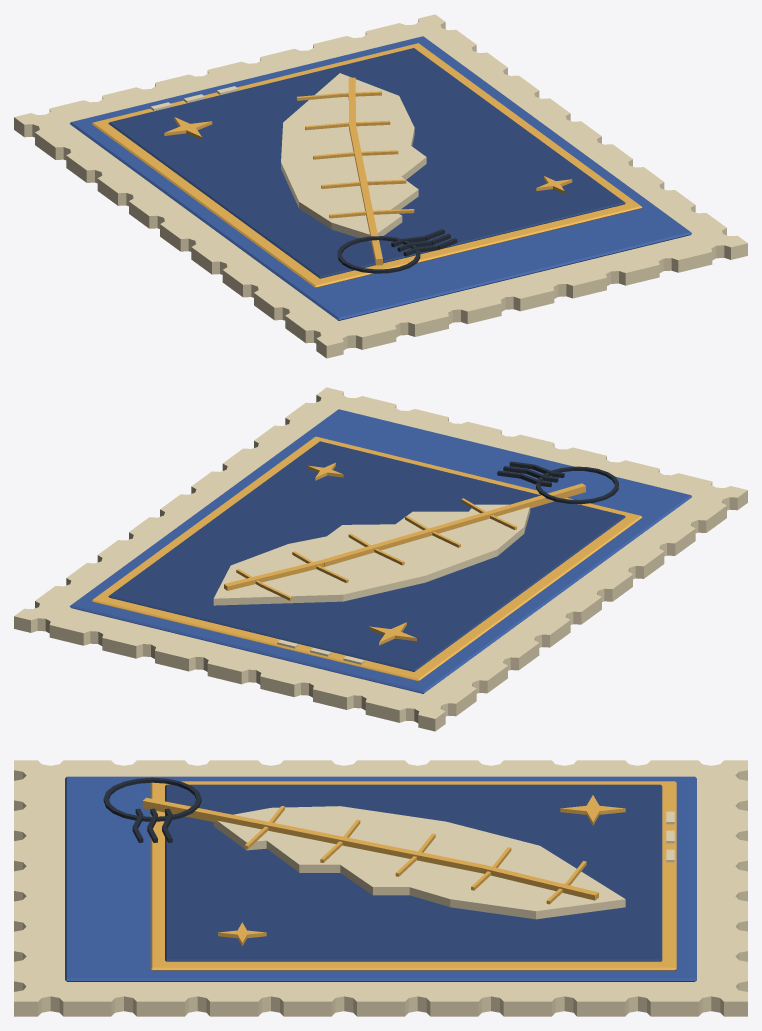
Rendered from magic_feather_stamp.glb.
3 views of the same model, one above another, from view 1: azimuth 30°, elevation 25°; view 2: azimuth 150°, elevation 25°; view 3: azimuth 270°, elevation 25° (orthographic). The views are drawn at different scales.
Parts seen in each view (by area): view 1: magic_feather_stamp__navy_feather_field, magic_feather_stamp__perforated_paper, magic_feather_stamp__blue_print, magic_feather_stamp__feather_relief, magic_feather_stamp__gold_inner_frame, magic_feather_stamp, magic_feather_stamp__postmark_circle; view 2: magic_feather_stamp__navy_feather_field, magic_feather_stamp__perforated_paper, magic_feather_stamp__blue_print, magic_feather_stamp__feather_relief, magic_feather_stamp__gold_inner_frame, magic_feather_stamp, magic_feather_stamp__postmark_circle; view 3: magic_feather_stamp__navy_feather_field, magic_feather_stamp__perforated_paper, magic_feather_stamp__blue_print, magic_feather_stamp__feather_relief, magic_feather_stamp__gold_inner_frame, magic_feather_stamp, magic_feather_stamp__postmark_circle, magic_feather_stamp__upper_glint.
Part boxes in pixels (<box>): magic_feather_stamp__navy_feather_field: <box>108,48,625,278</box>; magic_feather_stamp__perforated_paper: <box>14,14,747,358</box>; magic_feather_stamp__blue_print: <box>70,36,691,320</box>; magic_feather_stamp__feather_relief: <box>281,73,426,241</box>; magic_feather_stamp__gold_inner_frame: <box>92,43,642,287</box>; magic_feather_stamp: <box>150,77,457,265</box>; magic_feather_stamp__postmark_circle: <box>337,236,420,273</box>; magic_feather_stamp__navy_feather_field: <box>108,441,625,671</box>; magic_feather_stamp__perforated_paper: <box>14,387,747,731</box>; magic_feather_stamp__blue_print: <box>70,409,691,693</box>; magic_feather_stamp__feather_relief: <box>213,504,530,605</box>; magic_feather_stamp__gold_inner_frame: <box>92,436,642,681</box>; magic_feather_stamp: <box>224,461,585,664</box>; magic_feather_stamp__postmark_circle: <box>536,466,618,504</box>; magic_feather_stamp__navy_feather_field: <box>165,784,662,961</box>; magic_feather_stamp__perforated_paper: <box>14,760,747,1016</box>; magic_feather_stamp__blue_print: <box>65,776,696,981</box>; magic_feather_stamp__feather_relief: <box>213,806,625,919</box>; magic_feather_stamp__gold_inner_frame: <box>150,781,676,970</box>; magic_feather_stamp: <box>132,797,674,904</box>; magic_feather_stamp__postmark_circle: <box>103,777,201,821</box>; magic_feather_stamp__upper_glint: <box>560,795,625,825</box>.
Bounding box in the file's own units: 0.14 × 0.0113 × 0.18.
